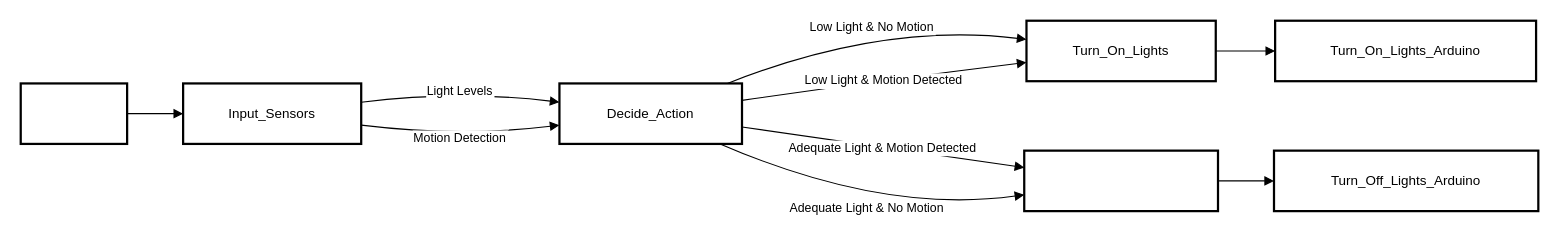
Image size: 1558x234. Some labels were removed from this diagram. The centre of each missing label's shape, as x and y in pixels:
Start: point 73,113
Turn_Off_Lights: point 1121,180
